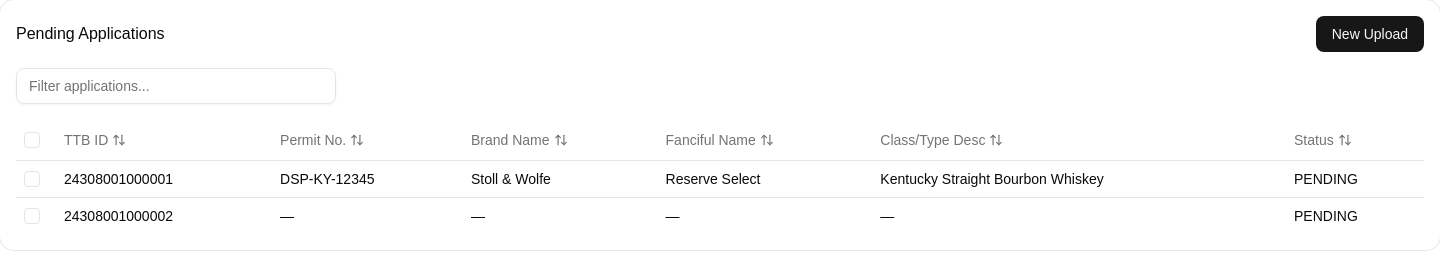
Test case: DashboardPage › shows a 'no applications found' message when the filter matches nothing (12.2)
The image size is (1440, 268).
Expected: the text "24308001000001" is shown, [56,160,272,197]
Type "nonexistent" into the field with placeholder "Filter applications...". click: (176, 86)
box: [16,68,336,104]
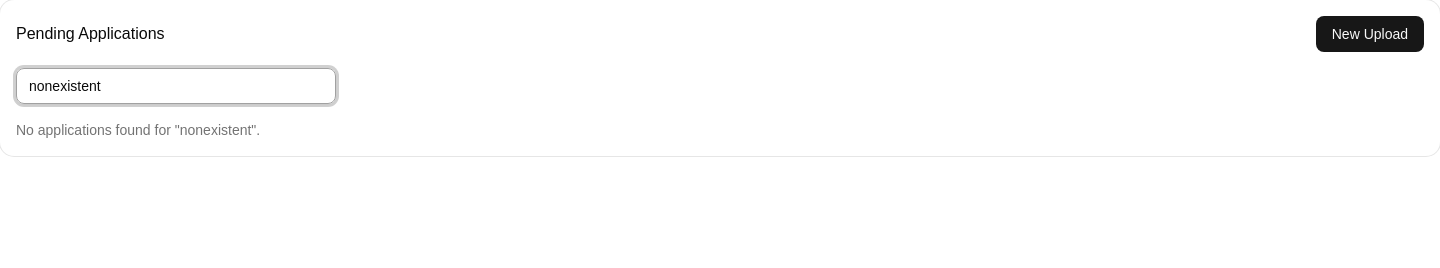
Now the text "No applications found for \"nonexistent\"." is shown, box [16,122,260,138]
